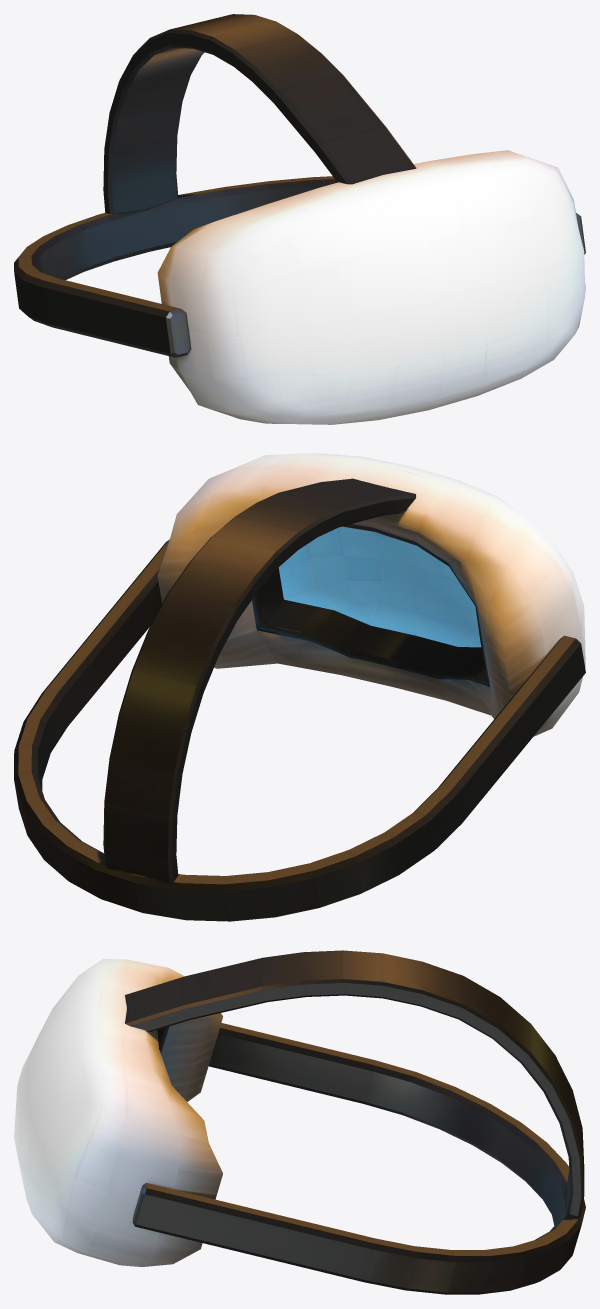
File: VRyanjing2.glb
3 views of the same model, one above another, from view 1: azimuth 30°, elevation 25°; view 2: azimuth 150°, elevation 25°; view 3: azimuth 270°, elevation 25° (orthographic). The views are drawn at different scales.
Parts seen in each view (by area): view 1: VR眼睛; view 2: VR眼睛; view 3: VR眼睛.
Part boxes in pixels (x1,y1,x2,y2): VR眼睛: (14,14,585,424); VR眼睛: (14,453,585,921); VR眼睛: (14,950,585,1294).
Size of the model in its own units: 1.01 by 0.6918 by 1.3.
Materials: 1 (1 with a texture image).
